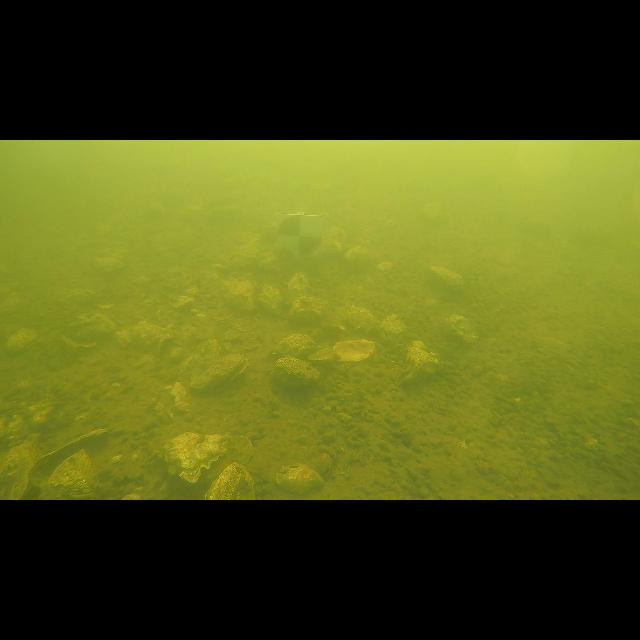Oyster-Closed: (164, 432, 230, 482), (46, 447, 102, 500), (0, 434, 41, 499), (188, 352, 247, 392), (205, 462, 255, 500), (179, 338, 224, 379), (68, 312, 116, 348), (115, 321, 172, 351), (405, 340, 441, 381), (272, 356, 320, 386), (276, 464, 324, 494), (272, 334, 318, 358), (428, 266, 464, 295), (289, 296, 322, 325), (224, 280, 254, 310), (445, 315, 478, 342), (346, 306, 380, 332), (380, 315, 406, 345), (259, 285, 282, 315), (288, 272, 309, 300)
Oyster-Open: (39, 426, 109, 468), (332, 339, 375, 361)
